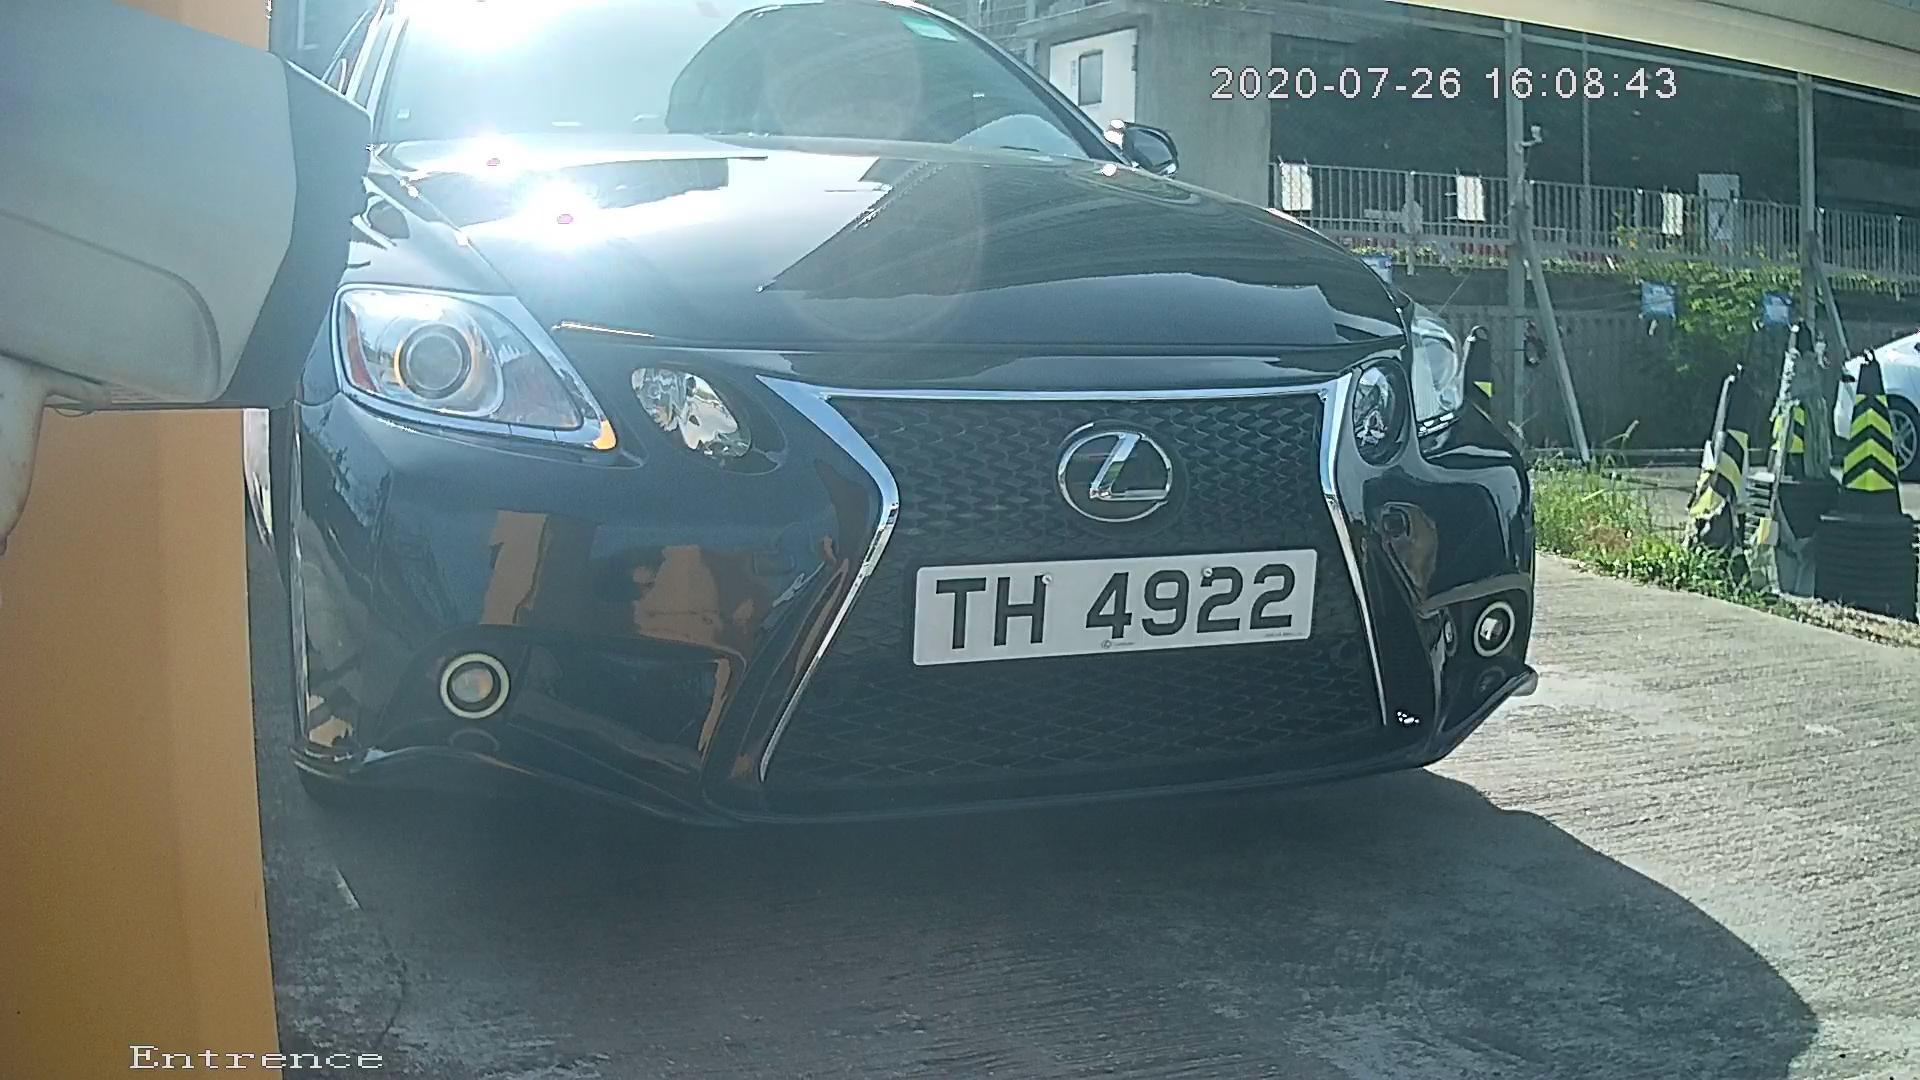privatecar: (181, 34, 1663, 926)
